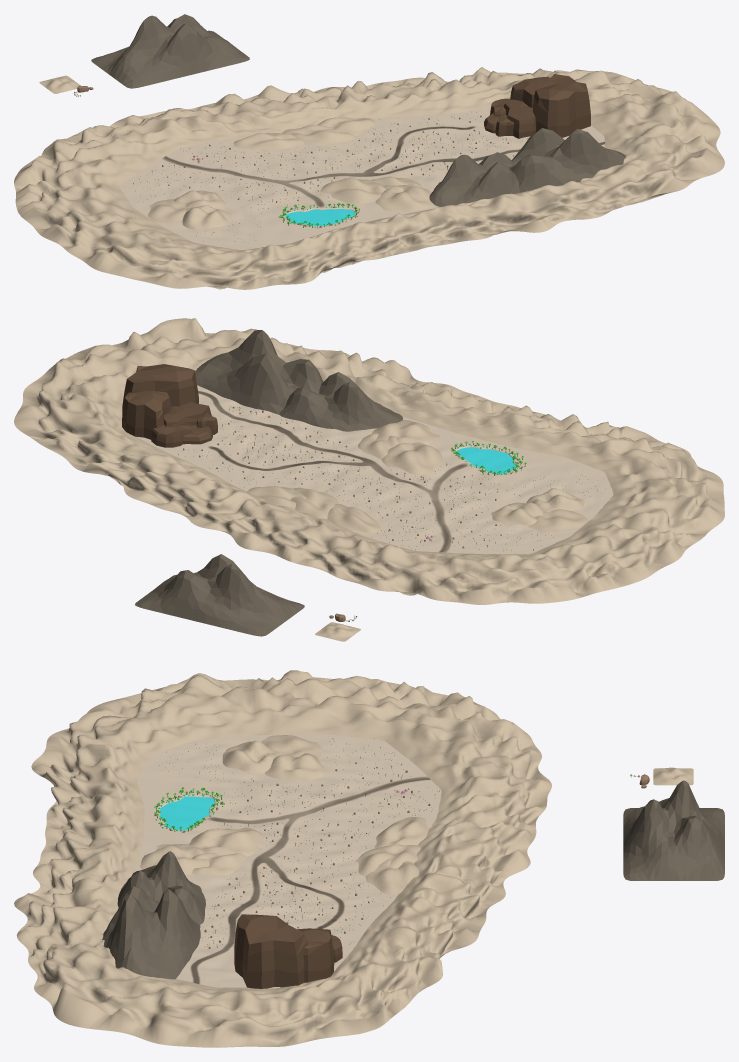
File: DesertBlocking.fbx
3 renders of one model, top to bottom at view 1: azimuth 30°, elevation 25°; view 2: azimuth 150°, elevation 25°; view 3: azimuth 270°, elevation 25°, orthographic. The views are drawn at different scales.
Parts seen in each view (by area): view 1: Dunes, Ground, Sierra, QuestMountain, Sierra.002, Sierra.001, MiniDunes.007, MiniDunes.008, MiniDunes.005, MiniDunes.004, MiniDunes.002, Lake (+4 smaller); view 2: Dunes, Ground, Sierra, QuestMountain, Sierra.002, Sierra.001, MiniDunes.007, MiniDunes.008, Lake, MiniDunes.004, MiniDunes.003, MiniDunes.005 (+5 smaller); view 3: Dunes, Ground, Sierra, Sierra.002, QuestMountain, Sierra.001, MiniDunes.007, MiniDunes.002, Lake, MiniDunes.001, MiniDunes.005, MiniDunes.006 (+5 smaller).
Part boxes in pixels (x1,y1,x2,y2): Dunes: [14, 67, 724, 289]; Ground: [120, 109, 605, 249]; Sierra: [91, 14, 249, 88]; QuestMountain: [484, 74, 590, 138]; Sierra.002: [508, 128, 625, 192]; Sierra.001: [429, 152, 519, 206]; MiniDunes.007: [320, 177, 385, 203]; MiniDunes.008: [375, 185, 435, 211]; MiniDunes.005: [281, 125, 355, 145]; MiniDunes.004: [233, 133, 303, 149]; MiniDunes.002: [182, 205, 228, 229]; Lake: [285, 209, 354, 225]; Dunes: [14, 318, 724, 604]; Ground: [136, 385, 613, 554]; Sierra: [135, 554, 304, 636]; QuestMountain: [122, 364, 217, 447]; Sierra.002: [195, 330, 323, 414]; Sierra.001: [279, 372, 402, 431]; MiniDunes.007: [381, 442, 442, 475]; MiniDunes.008: [371, 419, 440, 444]; Lake: [456, 447, 516, 474]; MiniDunes.004: [327, 504, 380, 533]; MiniDunes.003: [528, 509, 587, 532]; MiniDunes.005: [290, 487, 338, 518]; Dunes: [14, 670, 551, 1047]; Ground: [135, 734, 441, 988]; Sierra: [623, 780, 724, 880]; Sierra.002: [102, 886, 200, 979]; QuestMountain: [234, 914, 342, 988]; Sierra.001: [117, 851, 205, 924]; MiniDunes.007: [189, 827, 263, 856]; MiniDunes.002: [222, 740, 281, 773]; Lake: [159, 796, 214, 830]; MiniDunes.001: [265, 753, 325, 780]; MiniDunes.005: [355, 844, 420, 876]; MiniDunes.006: [365, 859, 418, 894].
Size of the model in its own units: 132609 by 11825 by 107566.
